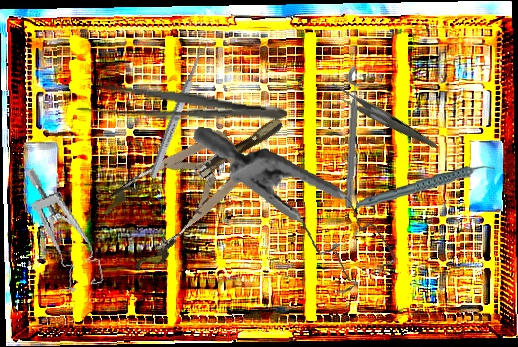Dressing Forceps: (325, 60, 438, 176), (76, 80, 288, 131)
Fixation Ring: (340, 65, 372, 210)
Handpiece: (354, 164, 497, 210)
Speculum: (176, 126, 411, 300), (92, 88, 307, 277), (24, 158, 105, 297)
Surgical Spoon: (147, 38, 211, 180)
